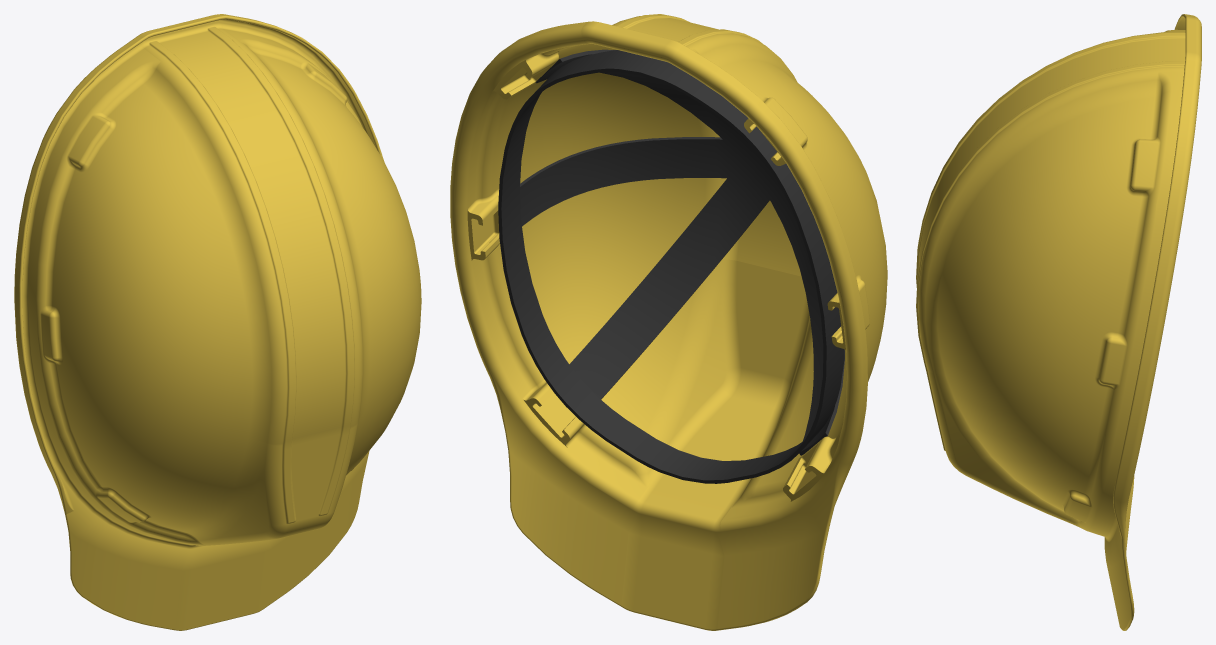
File: worker helmet v1.fbx
The picture shows the model from 3 angles, left to right: view 1: azimuth 30°, elevation 25°; view 2: azimuth 150°, elevation 25°; view 3: azimuth 270°, elevation 25°; orthographic projection. The views are drawn at different scales.
Visible parts, largest first — view 1: Body3; view 2: Body3, Body2, Body4, Body1, Body5; view 3: Body3.
Part boxes in pixels (x1=…): Body3: x1=14, y1=14, x2=421, y2=630; Body3: x1=450, y1=14, x2=887, y2=630; Body2: x1=498, y1=50, x2=844, y2=483; Body4: x1=569, y1=156, x2=775, y2=399; Body1: x1=520, y1=137, x2=765, y2=226; Body5: x1=536, y1=49, x2=844, y2=455; Body3: x1=916, y1=14, x2=1201, y2=630.
Bounding box in the file's own units: 252 × 363 × 164.
